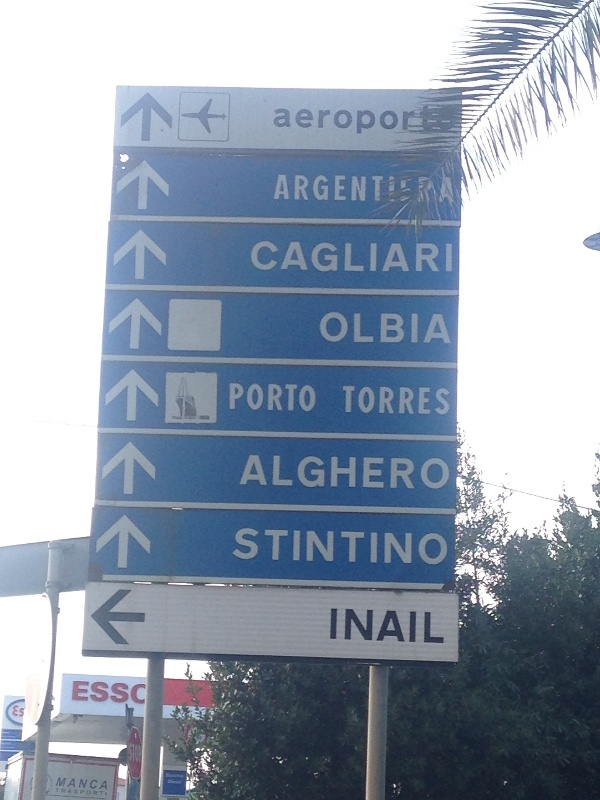text: (257, 453, 272, 492), (273, 453, 288, 492), (289, 453, 304, 492), (305, 453, 320, 492), (321, 453, 336, 492), (337, 453, 352, 492), (353, 453, 368, 492), (369, 453, 384, 492), (385, 453, 400, 492), (401, 453, 416, 492), (417, 453, 432, 492), (433, 453, 448, 492), (337, 608, 352, 644), (353, 608, 368, 644), (369, 608, 384, 644), (385, 608, 400, 644), (401, 608, 416, 644), (417, 608, 432, 644), (257, 241, 272, 275), (273, 241, 288, 275), (289, 241, 304, 275), (305, 241, 320, 275), (321, 241, 336, 275), (337, 241, 352, 275), (353, 241, 368, 275), (369, 241, 384, 275), (385, 241, 400, 275), (401, 241, 416, 275), (417, 241, 432, 275), (433, 241, 448, 275), (321, 312, 336, 346), (337, 312, 352, 346), (353, 312, 368, 346), (369, 312, 384, 346), (385, 312, 400, 346), (401, 312, 416, 346), (417, 312, 432, 346), (433, 312, 448, 346), (433, 608, 447, 644), (353, 385, 368, 417), (369, 385, 384, 417), (385, 385, 400, 417), (401, 385, 416, 417), (417, 385, 432, 417), (433, 385, 448, 417), (289, 108, 304, 139), (305, 108, 320, 139), (321, 108, 336, 139), (337, 108, 352, 139), (353, 108, 368, 139), (369, 108, 384, 139), (385, 108, 400, 139), (401, 108, 416, 139), (433, 104, 448, 135), (241, 383, 256, 414), (257, 383, 272, 414), (273, 383, 288, 414), (289, 383, 304, 414), (289, 174, 304, 203), (305, 174, 320, 203), (321, 174, 336, 203), (337, 174, 352, 203), (353, 174, 368, 203), (369, 174, 384, 203), (401, 175, 416, 204), (417, 175, 432, 204), (433, 175, 448, 204), (274, 108, 288, 139), (419, 104, 432, 135), (113, 680, 129, 704), (81, 680, 96, 704), (97, 680, 112, 704), (305, 383, 316, 414), (129, 742, 144, 764), (389, 175, 400, 204), (230, 383, 240, 414), (343, 385, 352, 417), (131, 683, 144, 705), (279, 174, 288, 203), (250, 453, 256, 492), (449, 104, 456, 135), (65, 777, 80, 791), (81, 777, 96, 791), (331, 608, 336, 644), (449, 175, 455, 204), (251, 241, 256, 275), (73, 680, 80, 704), (97, 777, 107, 791), (449, 241, 453, 275), (65, 788, 80, 797), (81, 788, 96, 797), (17, 704, 25, 718), (449, 312, 452, 346), (97, 788, 107, 797), (55, 788, 64, 797), (59, 777, 64, 791), (145, 683, 147, 705), (449, 453, 450, 492), (449, 385, 450, 417), (14, 704, 16, 718)
